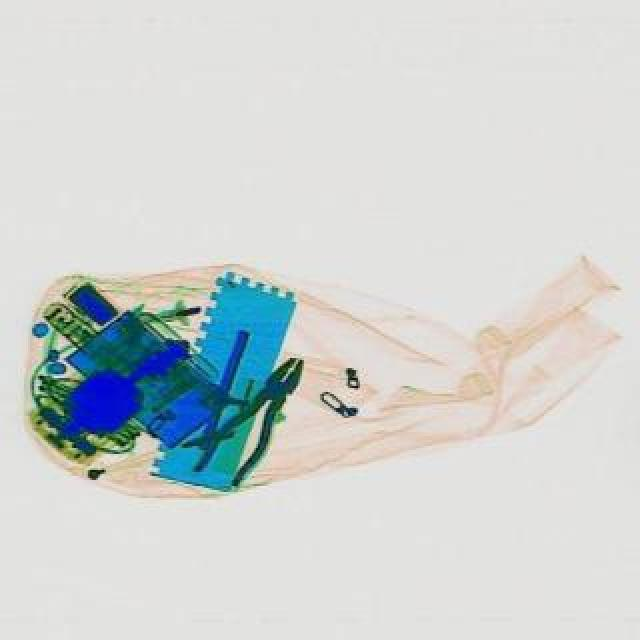wrench: (192, 342, 324, 494)
